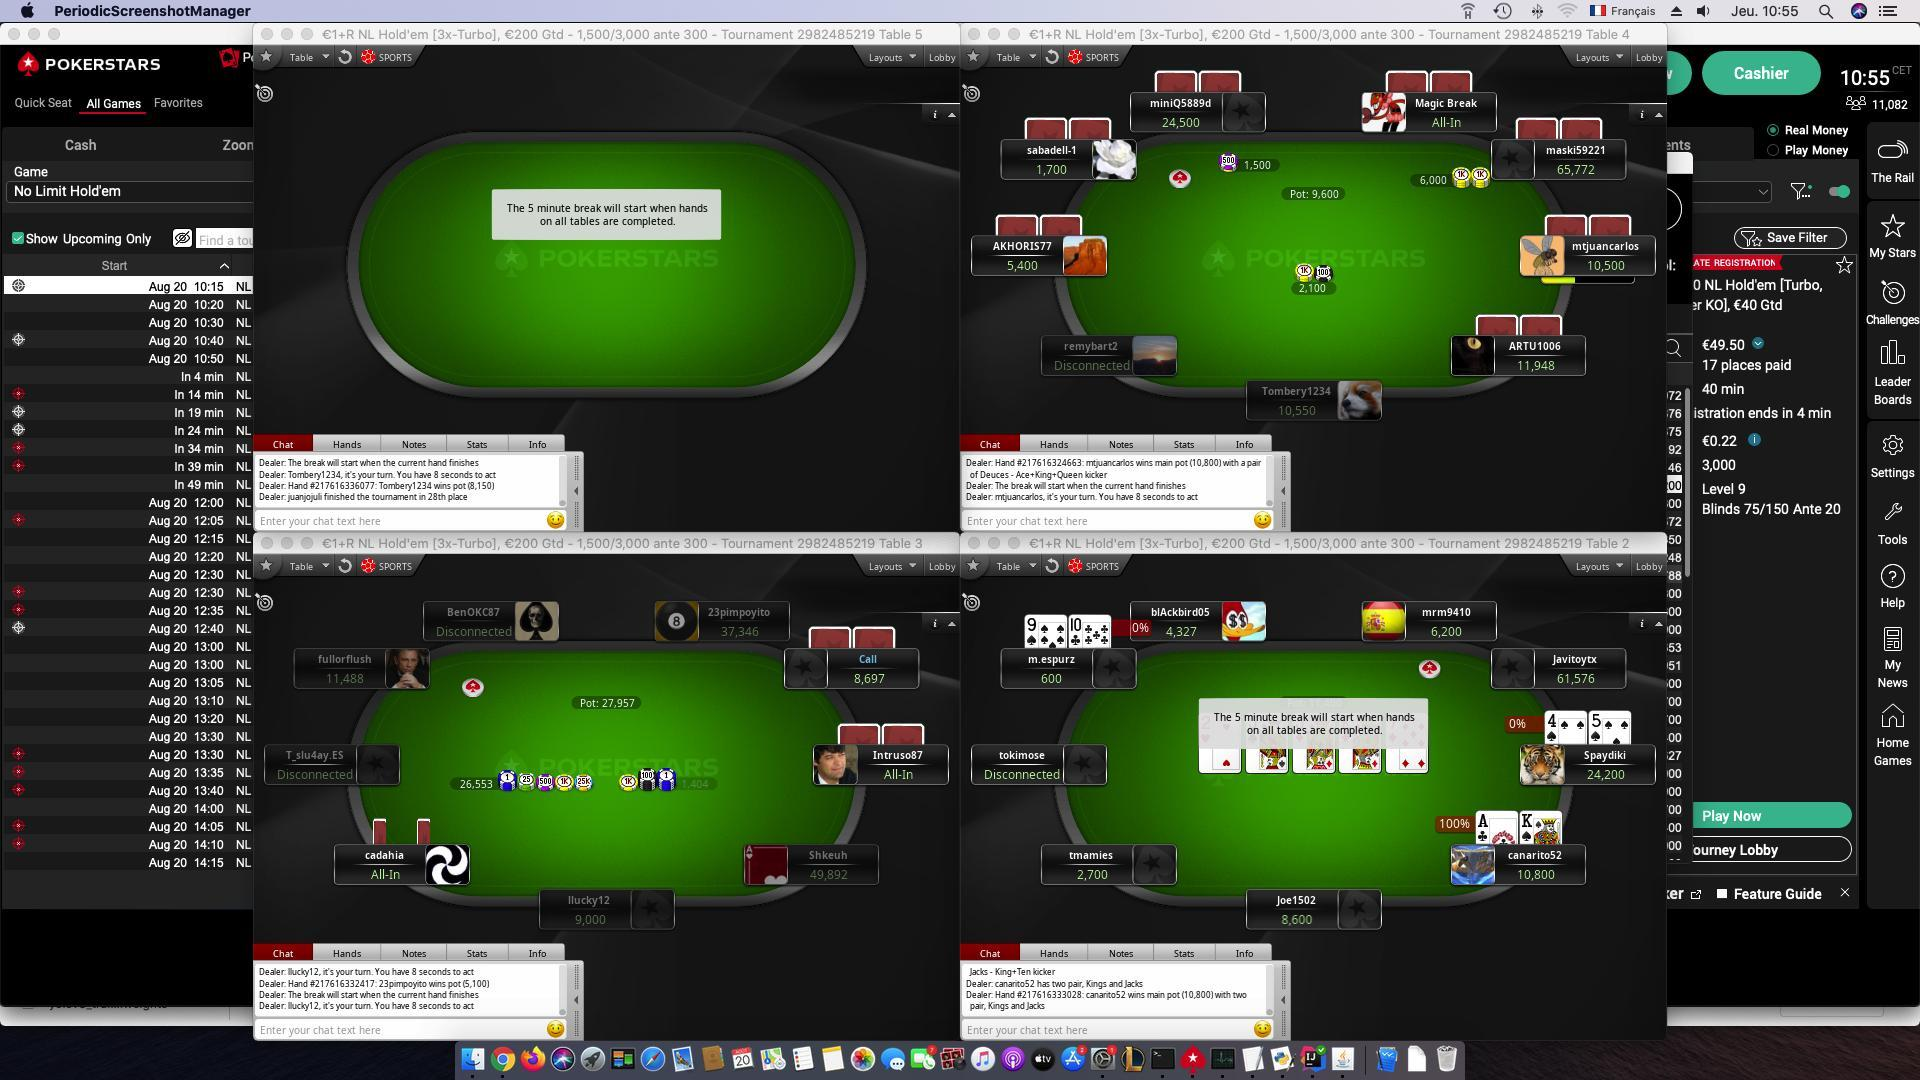10C: (1065, 615, 1087, 645)
2H: (1195, 709, 1215, 744)
4S: (1545, 709, 1561, 738)
5S: (1586, 709, 1605, 738)
9S: (1025, 612, 1042, 645)
AC: (1476, 811, 1494, 841)
KS: (1518, 811, 1534, 840)
